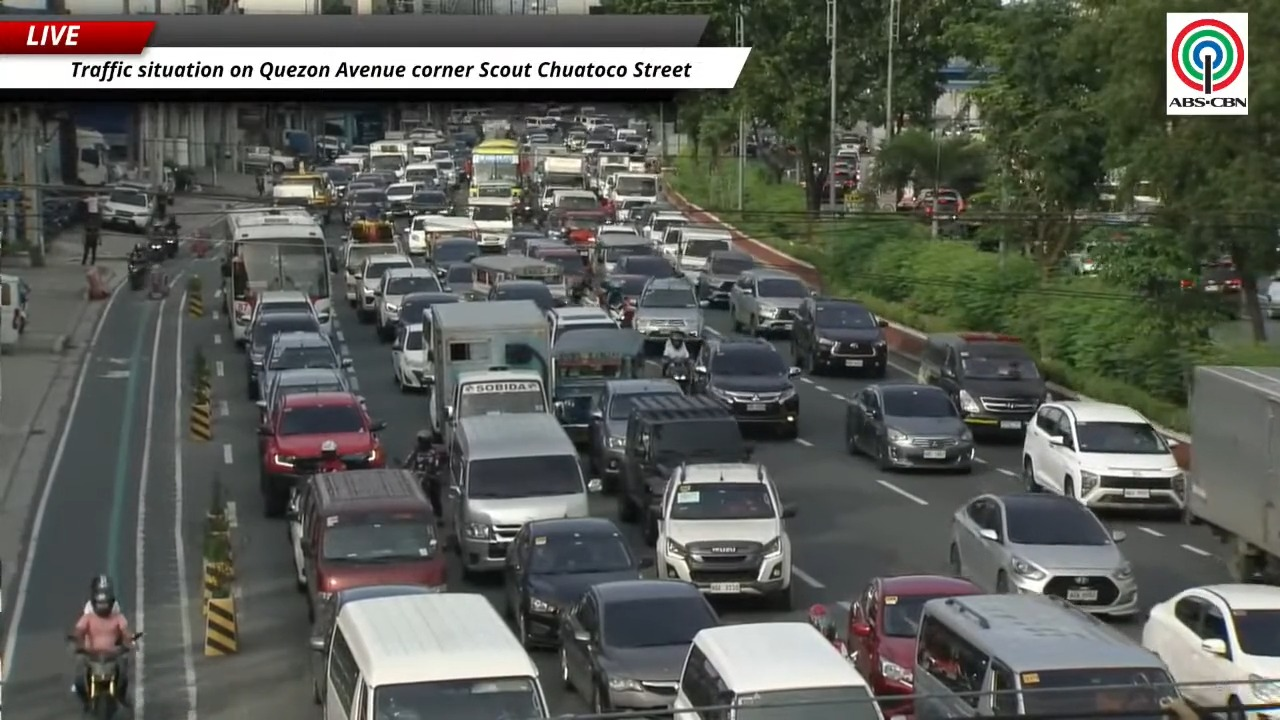bus: (223, 208, 332, 342), (467, 139, 525, 196)
car: (949, 493, 1138, 615), (560, 579, 719, 713), (655, 462, 795, 610), (616, 394, 752, 542), (845, 575, 982, 717), (503, 517, 647, 647), (1142, 584, 1279, 717), (1023, 401, 1185, 509), (259, 392, 385, 517), (309, 585, 436, 702), (917, 332, 1047, 436), (845, 382, 974, 472), (693, 336, 799, 438), (588, 378, 682, 493), (791, 298, 887, 377), (245, 311, 322, 399), (251, 332, 350, 399), (728, 268, 810, 334), (633, 278, 702, 352), (375, 267, 443, 341), (256, 368, 350, 421), (356, 252, 413, 322), (695, 251, 756, 305), (673, 226, 732, 280), (391, 322, 432, 391), (99, 182, 155, 232), (547, 306, 617, 343), (249, 290, 314, 326), (487, 280, 562, 311), (397, 292, 459, 327), (429, 236, 480, 275), (640, 205, 688, 246), (343, 186, 386, 223), (612, 255, 677, 278), (600, 273, 649, 303), (386, 182, 427, 216), (407, 187, 451, 215), (442, 262, 475, 298), (506, 229, 548, 254), (1260, 276, 1279, 318)
motorcycle: (76, 646, 129, 719), (149, 224, 178, 258), (665, 359, 693, 394), (127, 256, 149, 290), (147, 233, 167, 262), (162, 228, 179, 258)
truck: (1184, 366, 1279, 583), (424, 300, 550, 451), (540, 155, 586, 188)
